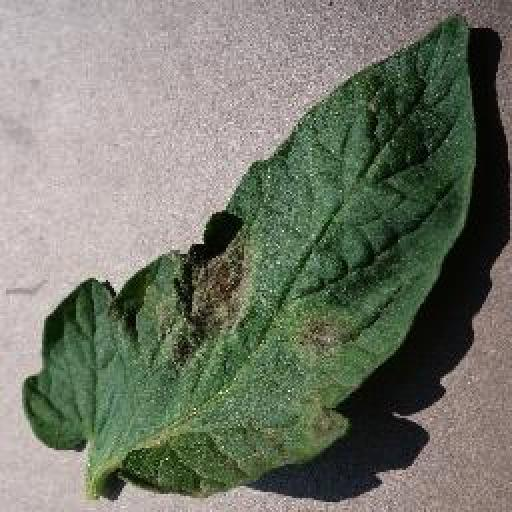disease_tomato: (24, 9, 478, 499)
